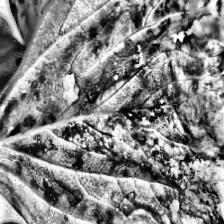Angular Leafspot: (0, 0, 224, 224), (0, 0, 40, 111)
